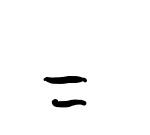eqv: (44, 76, 87, 107)
